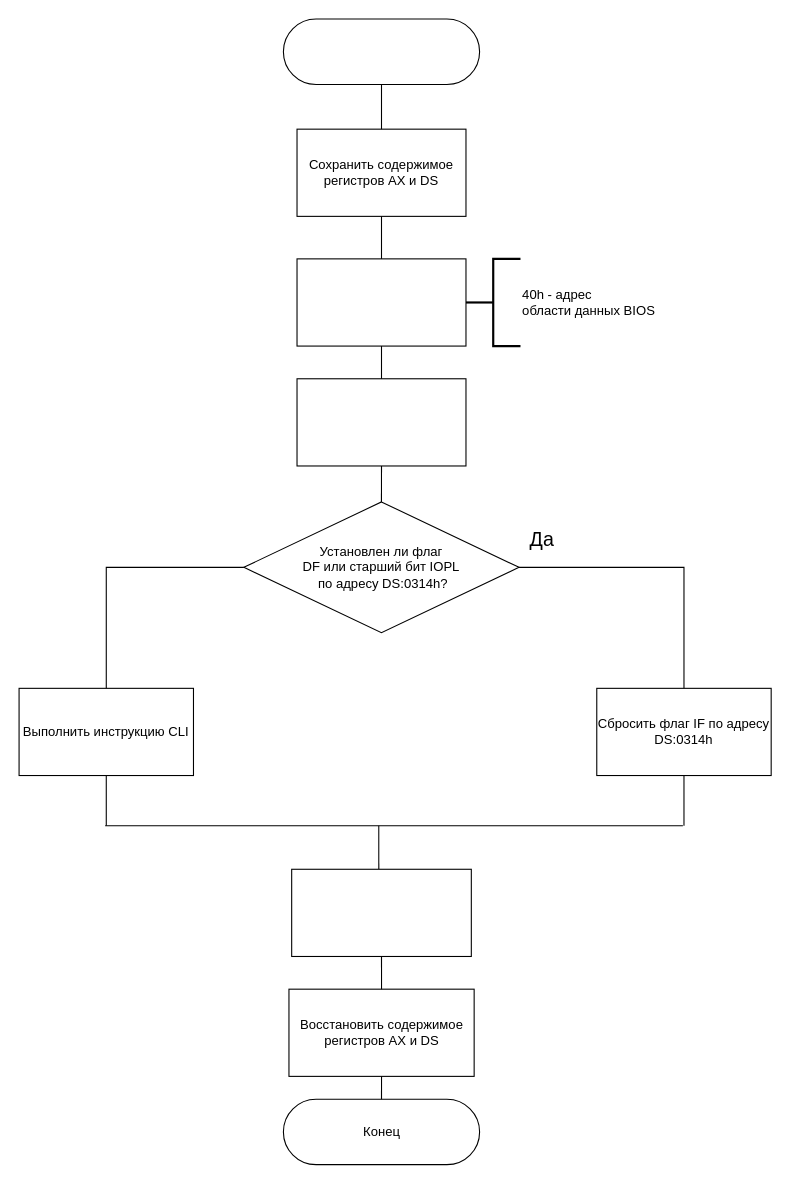
Some shapes in this 790 by 1184 pixel diagram are drawn without their labels. The centre of each missing label's shape, as x and y in pixels:
"Загрузить в регистр AH значение младшего байта содержимого регистра FLAGS" belongs at [381,422].
"Загрузить в регистр DS 40h" belongs at [381,302].
"Загрузить содержимое регистра AH в младший байт регистра FLAGS" belongs at [381,912].
"Начало" belongs at [381,51].
